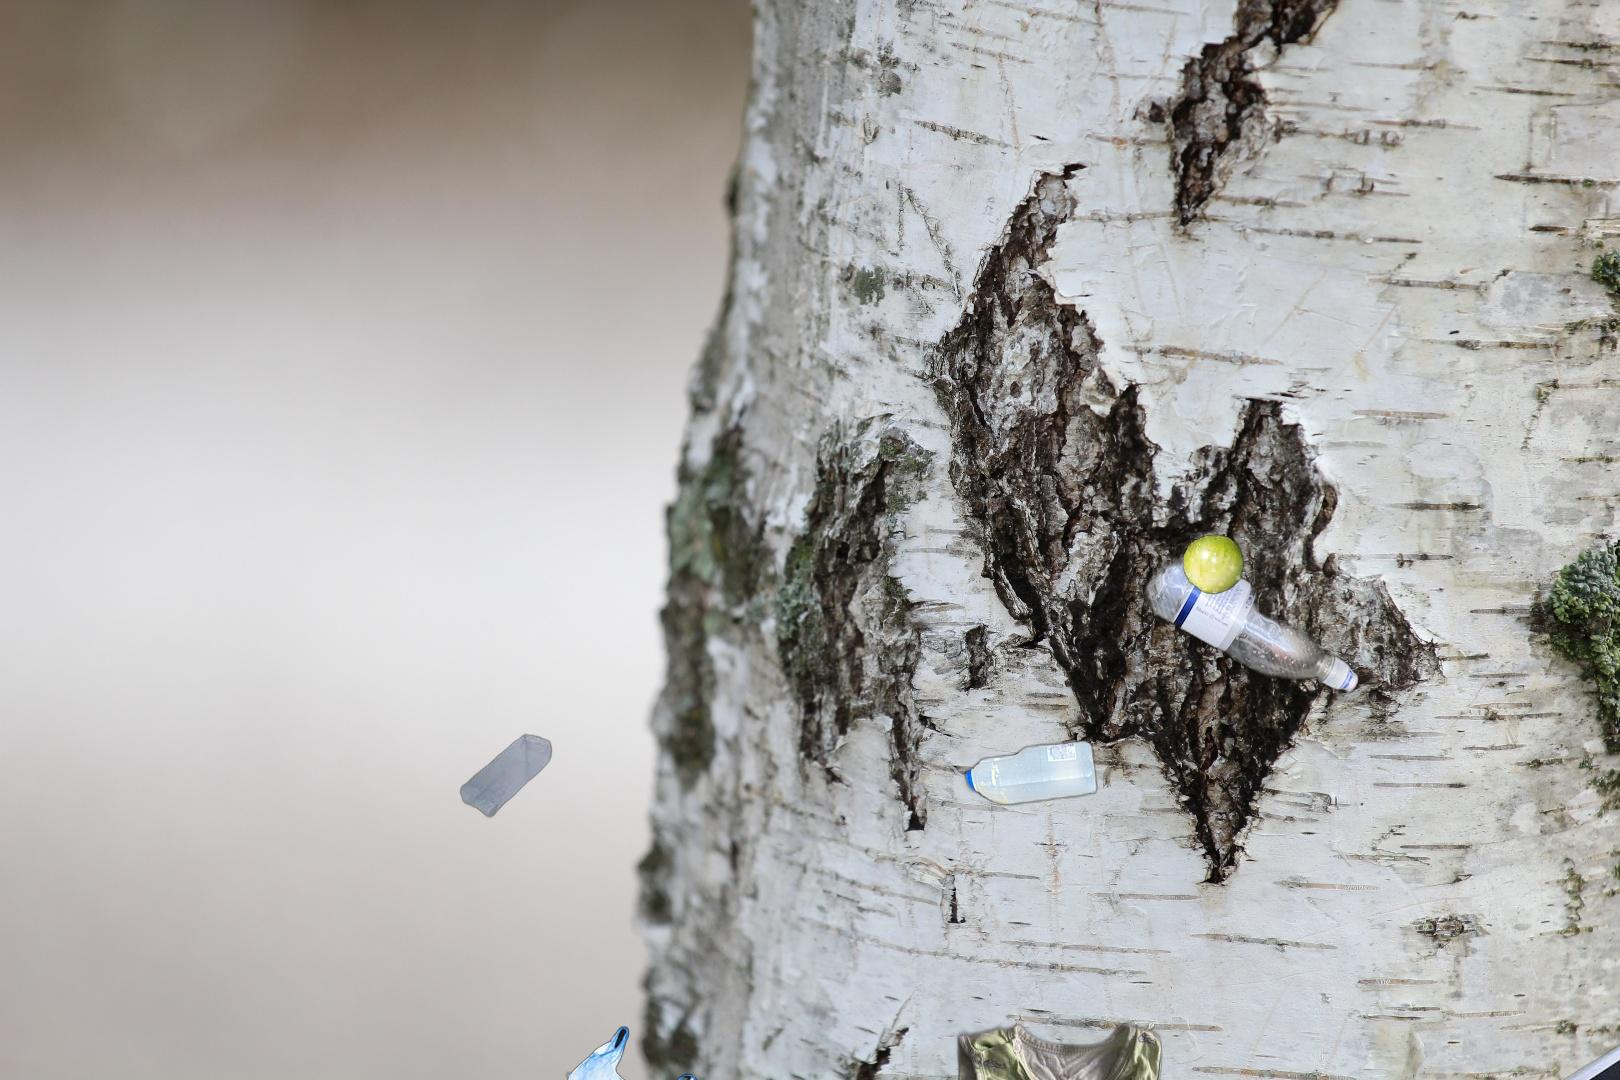battery: (1490, 1034, 1620, 1080)
biological: (1180, 532, 1368, 687)
clothes: (885, 1019, 1210, 1080)
plastic-bag: (542, 1025, 717, 1080), (458, 730, 554, 820)
plastic-bottles: (1140, 545, 1363, 861), (952, 735, 1125, 1080)
